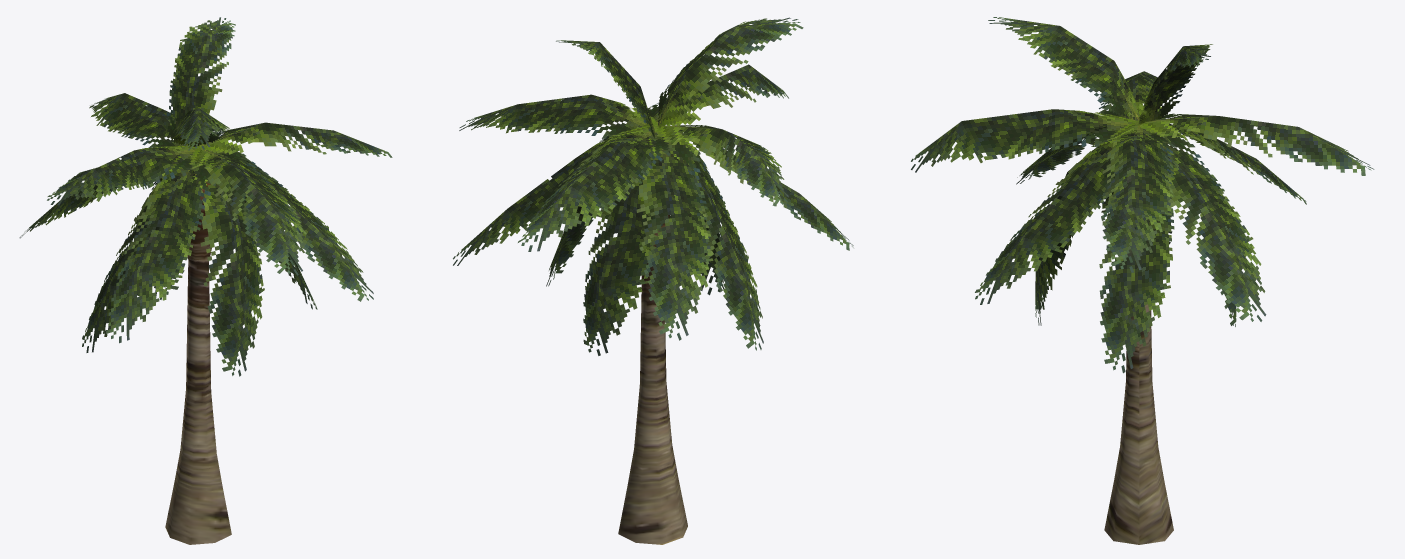
File: PalmTrees.glb
The picture shows the model from 3 angles, left to right: view 1: azimuth 30°, elevation 25°; view 2: azimuth 150°, elevation 25°; view 3: azimuth 270°, elevation 25°; orthographic projection. The views are drawn at different scales.
Parts seen in each view (by area): view 1: PalmTree; view 2: PalmTree; view 3: PalmTree.
Part boxes in pixels (left/top/right/bottom): PalmTree: left=19, top=17, right=392, bottom=544; PalmTree: left=453, top=17, right=853, bottom=544; PalmTree: left=911, top=17, right=1374, bottom=544.
Bounding box in the file's own units: 8.19 × 10.61 × 9.42.
Materials: 2 (2 with a texture image).
